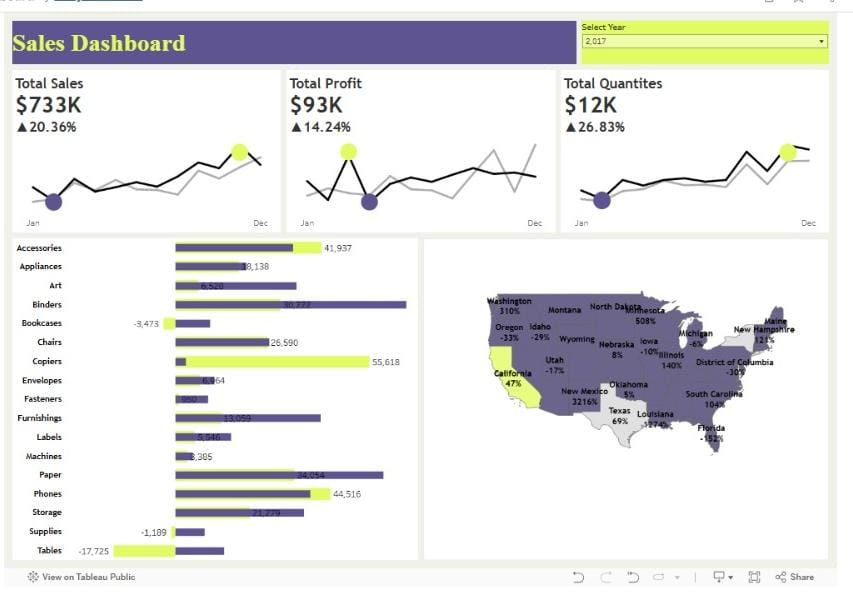

What the dashboard file says about the page in this screenshot:
{"tool":"tableau","page":{"name":"Dashboard 1","canvas":[1200,800],"ordinal":0},"visuals":[{"type":"text","box":[8,8,820,71]},{"type":"parameter","param":"[Parameters].[Parameter 1]","box":[828,8,364,71]},{"type":"worksheet","title":"t.Sales","mark":"Automatic","rows":["Calculation_336925577683689475"],"cols":["Order Date"],"box":[8,79,395,242]},{"type":"worksheet","title":"t.Profit","mark":"Automatic","rows":["MIN/MAX(Sales) (copy)_336925577693560844"],"cols":["Order Date"],"box":[403,79,395,242]},{"type":"worksheet","title":"t.Quantity","mark":"Automatic","rows":["MIN/MAX(Profit) (copy)_336925577699684375"],"cols":["Order Date"],"box":[798,79,394,242]},{"type":"worksheet","title":"sc pro,qua","mark":"Bar","rows":["Sub-Category"],"cols":["Profit","Quantity"],"box":[8,321,592,471]},{"type":"worksheet","title":"Map sales","mark":"Multipolygon","box":[600,321,592,471]}]}

Visuals, with their boxes on the page's 1200x800 design canvas (x1, y1, x2, y2). These are canvas units, not pixel positions in the 853x597 screenshot, which may show the page scaled, cropped or inside an application window:
text: left=8, top=8, right=828, bottom=79
parameter: left=828, top=8, right=1192, bottom=79
"t.Sales" worksheet: left=8, top=79, right=403, bottom=321
"t.Profit" worksheet: left=403, top=79, right=798, bottom=321
"t.Quantity" worksheet: left=798, top=79, right=1192, bottom=321
"sc pro,qua" worksheet (Bar marks): left=8, top=321, right=600, bottom=792
"Map sales" worksheet (Multipolygon marks): left=600, top=321, right=1192, bottom=792
